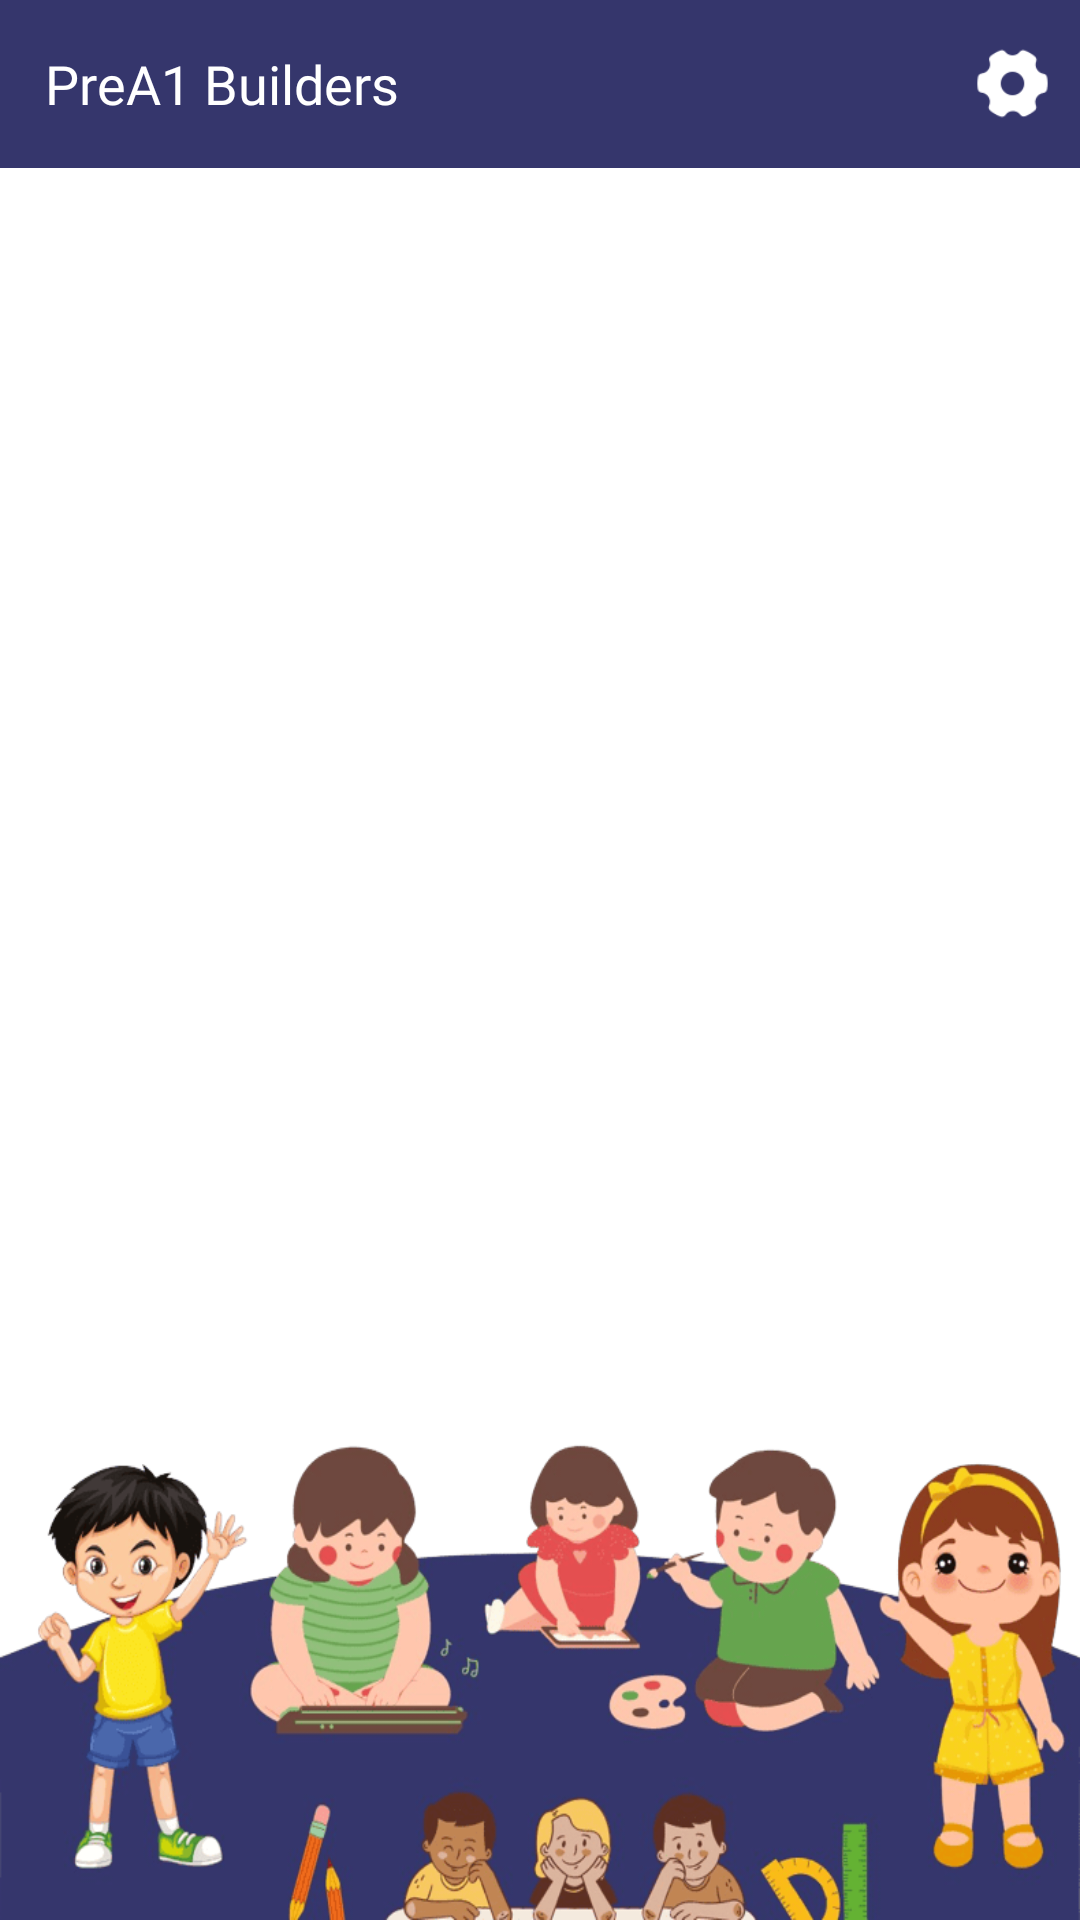

Locate icon controls on the screen. Image size 1080px x 1920px, boxes as box=[x1, y1, x2, y2].
setting: box=[977, 49, 1048, 118]
